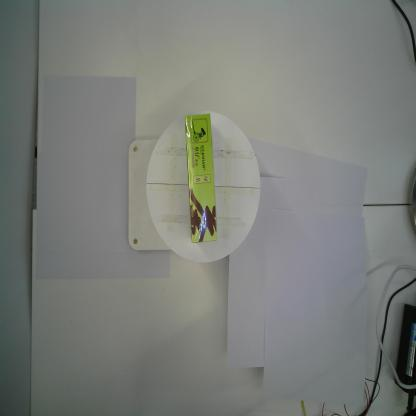Instant Drink: (184, 112, 218, 244)
